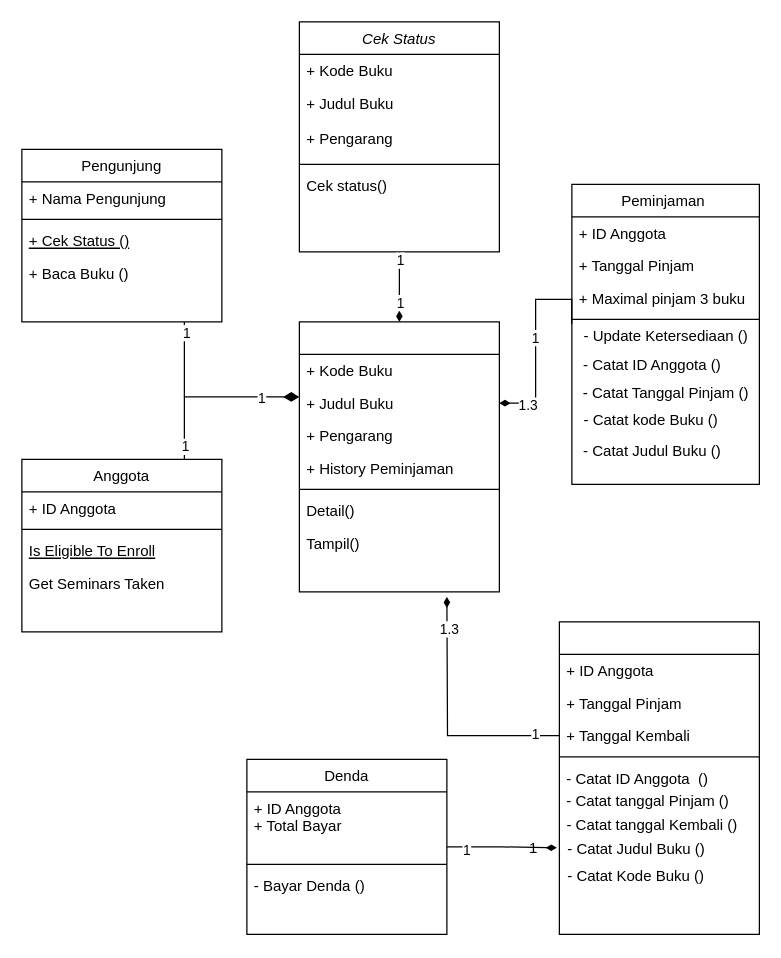
This 781x958 diagram has some shape labels left out. Each missing label, with the box of its shape:
Koleksi Buku: (298, 321, 499, 592)
Pengembalian: (558, 621, 759, 934)
